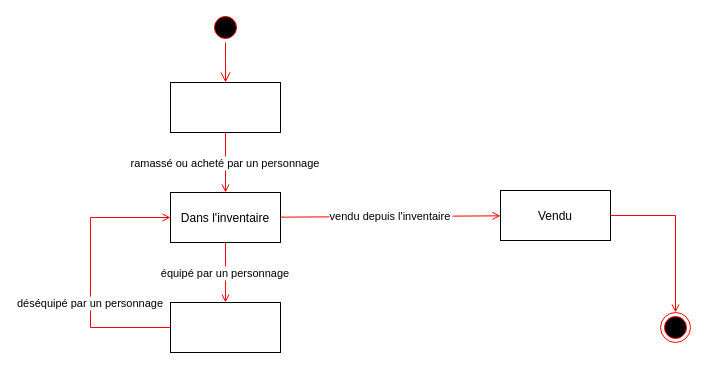
Some shapes in this 707 by 369 pixel diagram are drawn without their labels. The shapes that lost their labels are listed below. From the top down, each one's centre as x and y in pixels, then its label:
At point (225, 107): "Dans un donjon".
At point (225, 327): "Equipé".
